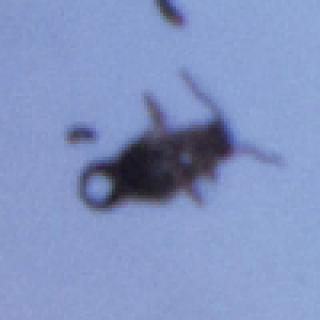earwig: (74, 65, 288, 212)
